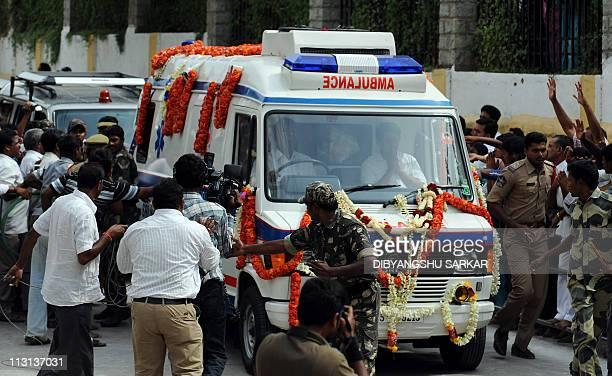Emergency-Vehicles: (103, 23, 513, 376)
